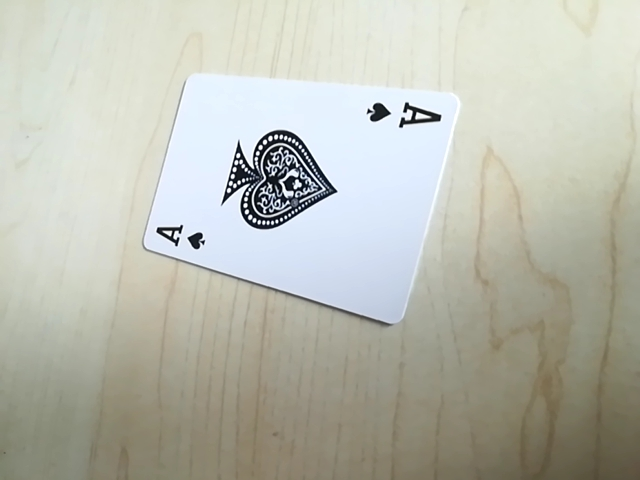ht a: (358, 94, 444, 136), (144, 219, 210, 256)
